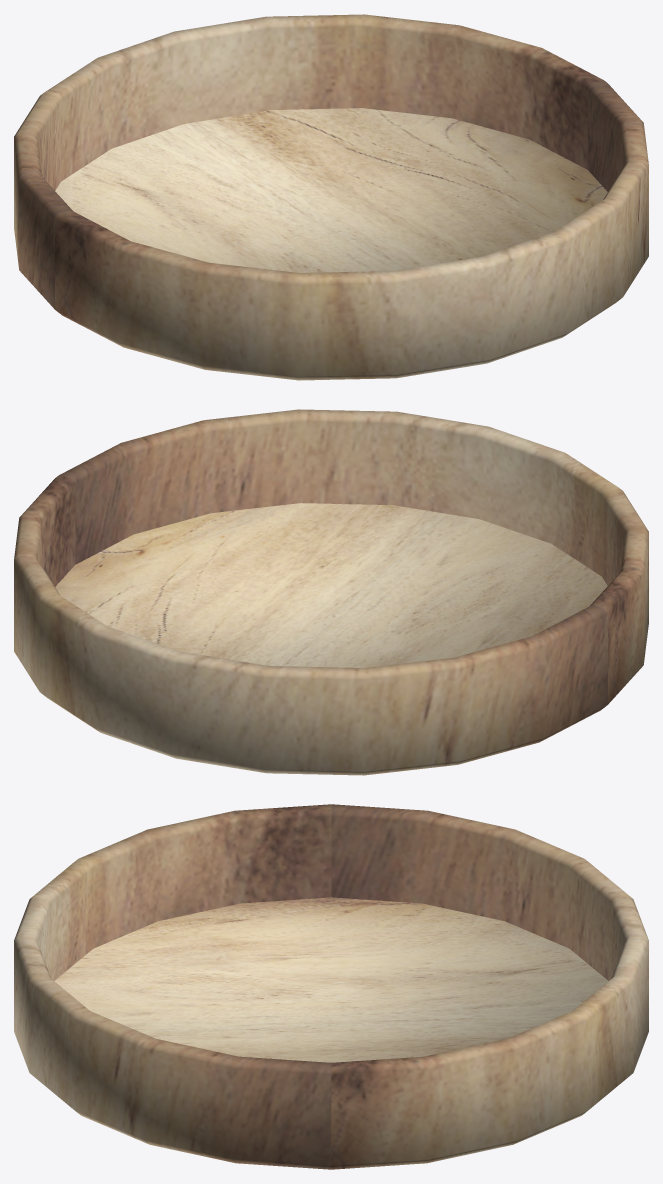
File: oke.fbx
3 views of the same model, one above another, from view 1: azimuth 30°, elevation 25°; view 2: azimuth 150°, elevation 25°; view 3: azimuth 270°, elevation 25° (orthographic).
Parts seen in each view (by area): view 1: 円柱; view 2: 円柱; view 3: 円柱.
Part boxes in pixels (box(x1,y1,x2,y2)): 円柱: box(14, 14, 648, 380); 円柱: box(14, 409, 648, 775); 円柱: box(14, 804, 648, 1169).
Bounding box in the file's own units: 20 × 3.56 × 20.
